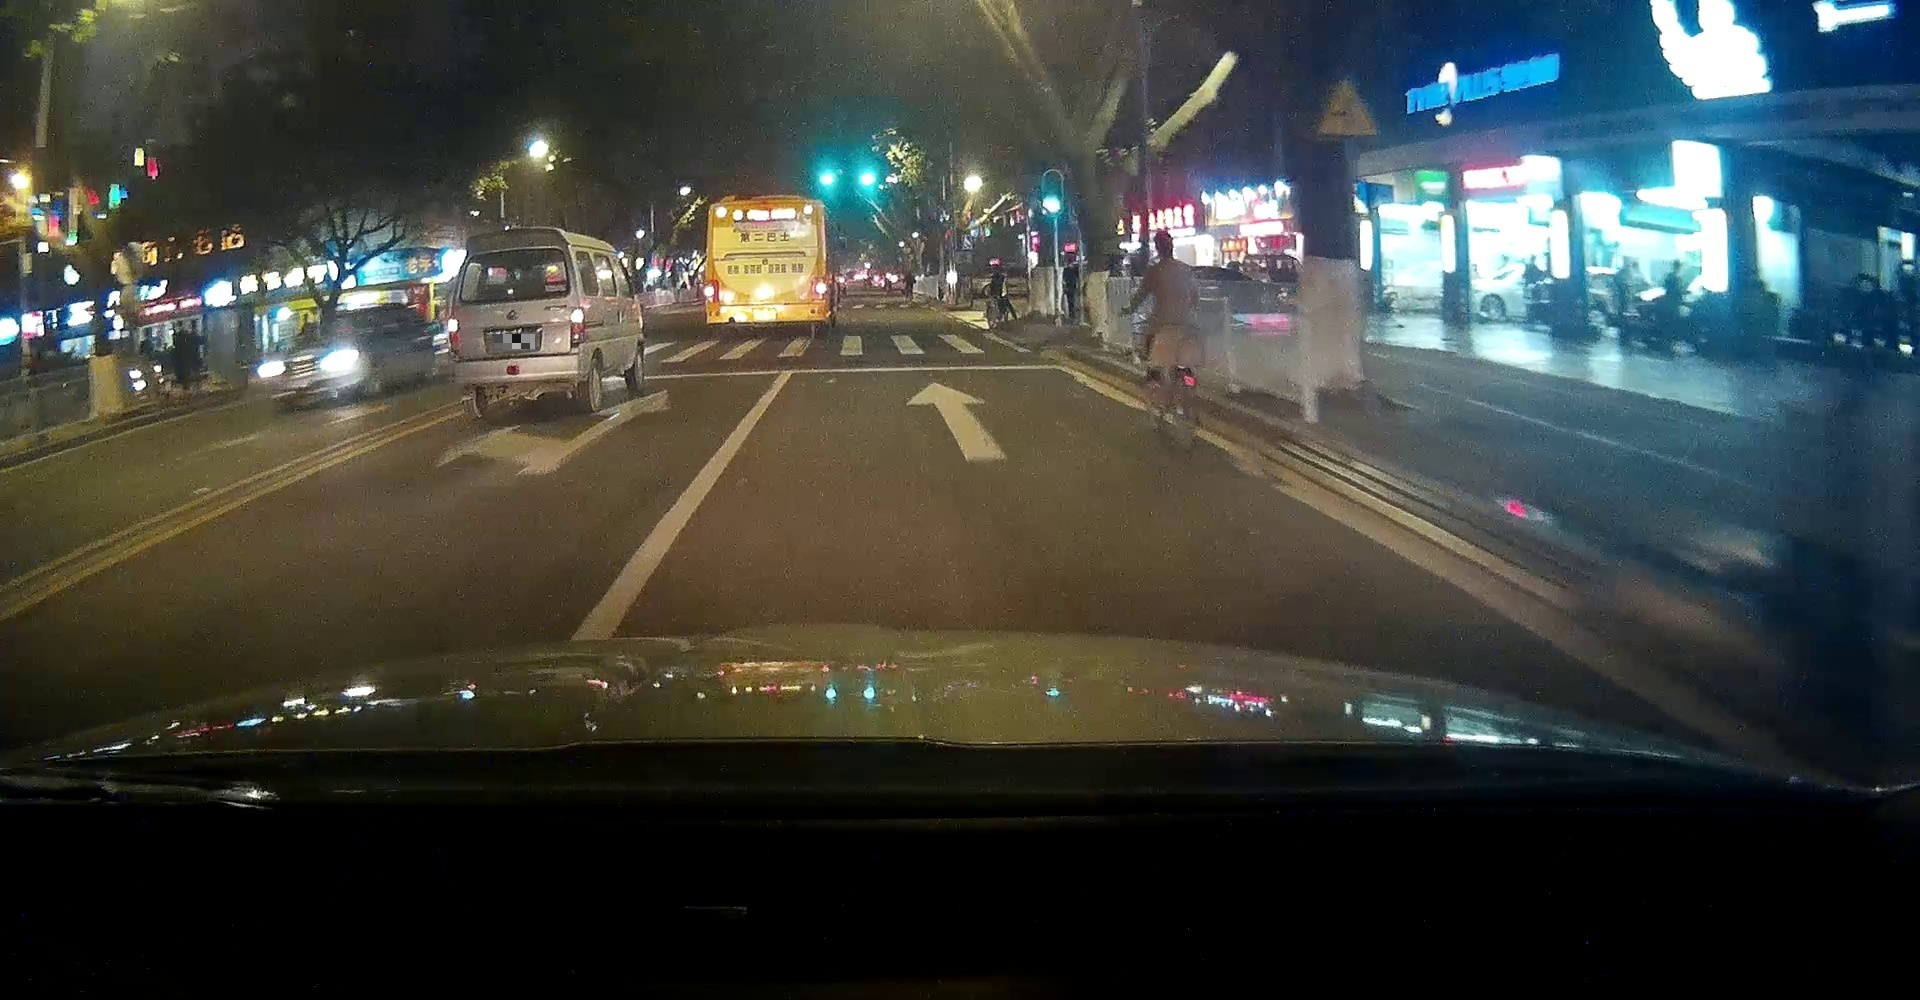L_light: (447, 317, 458, 353), (703, 280, 717, 303)
R_light: (570, 307, 585, 341), (811, 278, 825, 299)
T_light: (498, 251, 523, 255), (759, 203, 773, 208)
night-no: (446, 227, 585, 421), (703, 198, 825, 336)
plate_1: (494, 334, 535, 349)
